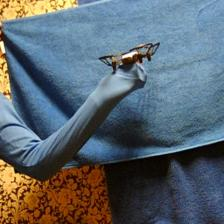drone: (99, 42, 161, 71)
